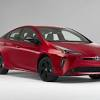Toyota: (1, 24, 100, 79)
